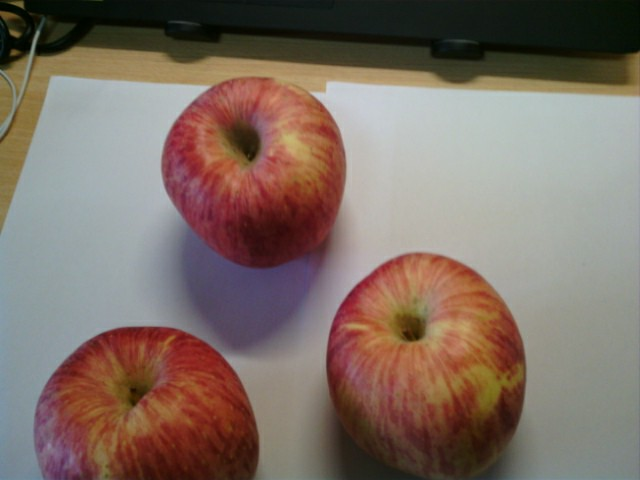normal_apple: (324, 253, 529, 480), (160, 76, 346, 266), (34, 326, 256, 480)
